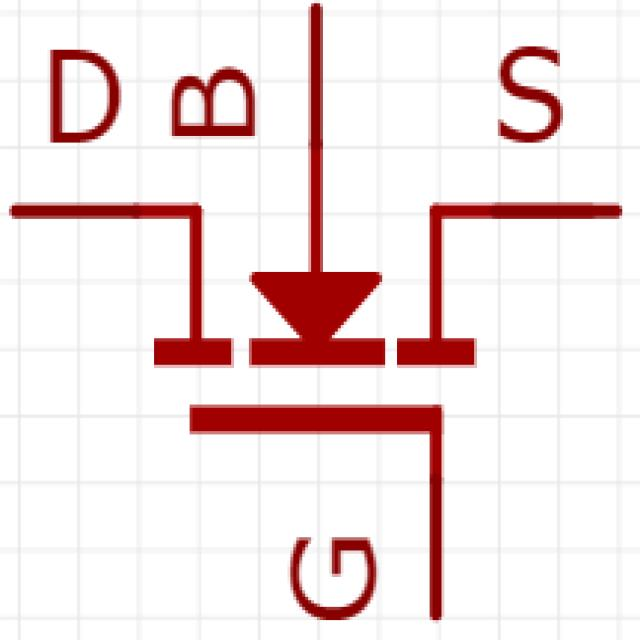nmos: (29, 10, 618, 630)
